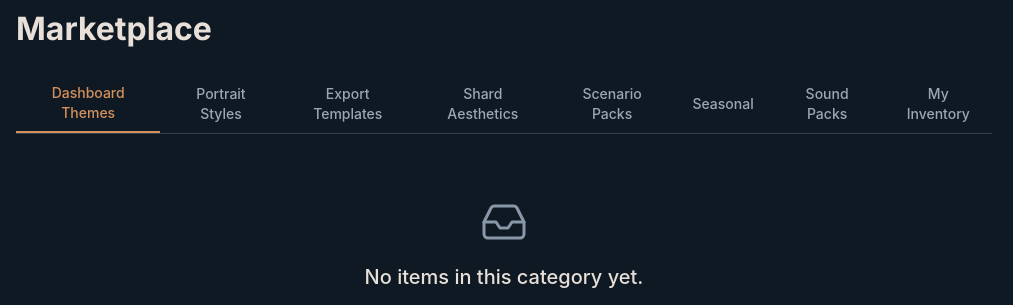
Test: MarketplacePage — inventory tab › Inventory tab renders the rows returned by inventory()
The width and height of the screenshot is (1013, 305).
Click the tab "My Inventory": [938, 104] box [884, 75, 992, 133]
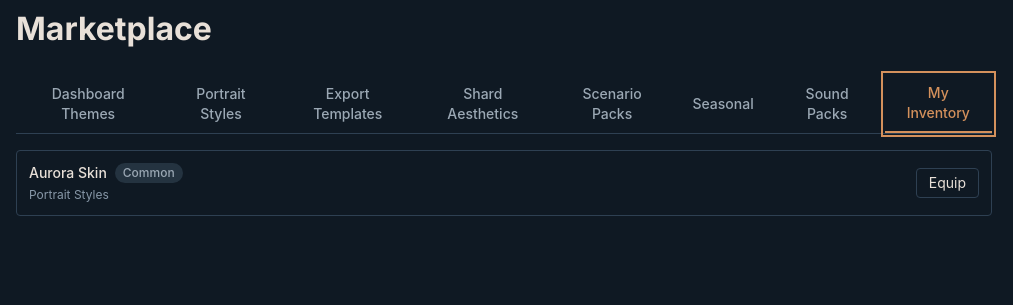
Expected: the text "Aurora Skin" is shown, [29, 163, 107, 183]
